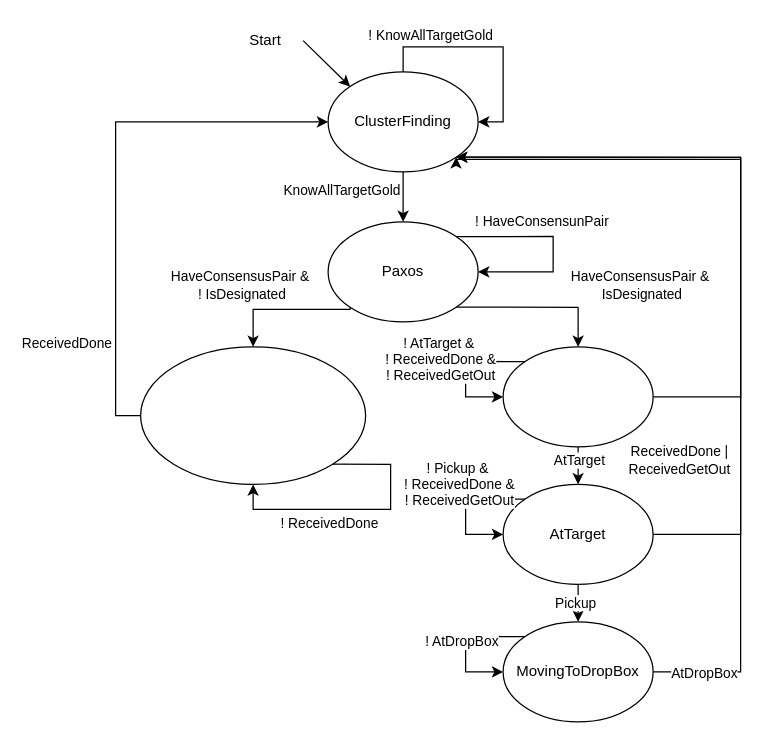
This 773x744 diagram has some shape labels left out. Here are the shapes that lost their labels. From the top down, the centre of each, then its label:
point 252,415: WaitingForTaskCompletion
point 577,396: MovingToTarget
